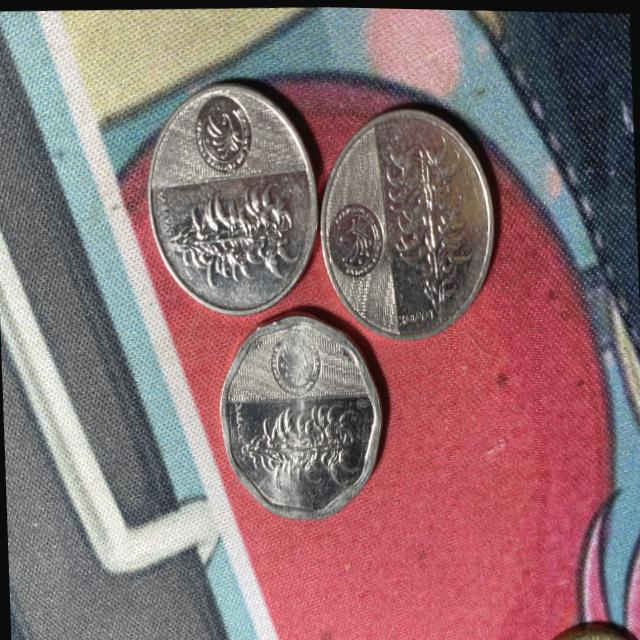5_New_Back: (382, 128, 469, 318), (171, 177, 294, 292), (242, 395, 361, 489)
